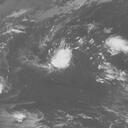cyclone: (49, 47, 73, 70)
